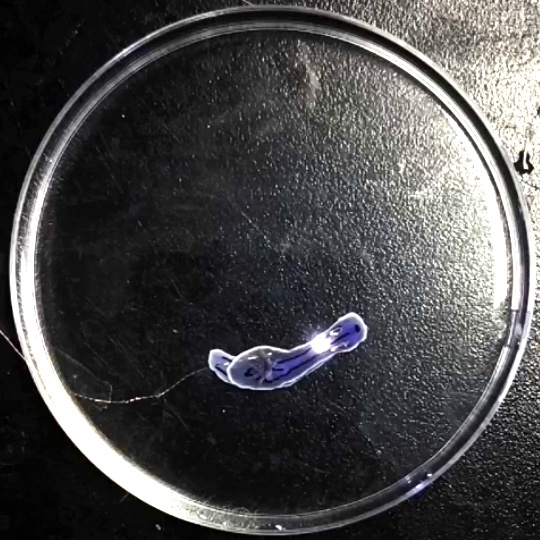sea-slug: (106, 46, 354, 373)
